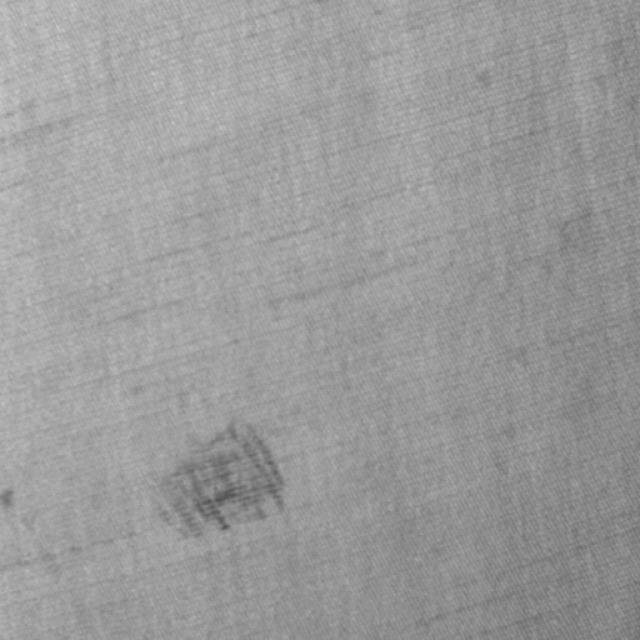oil spot: (150, 415, 293, 540)
